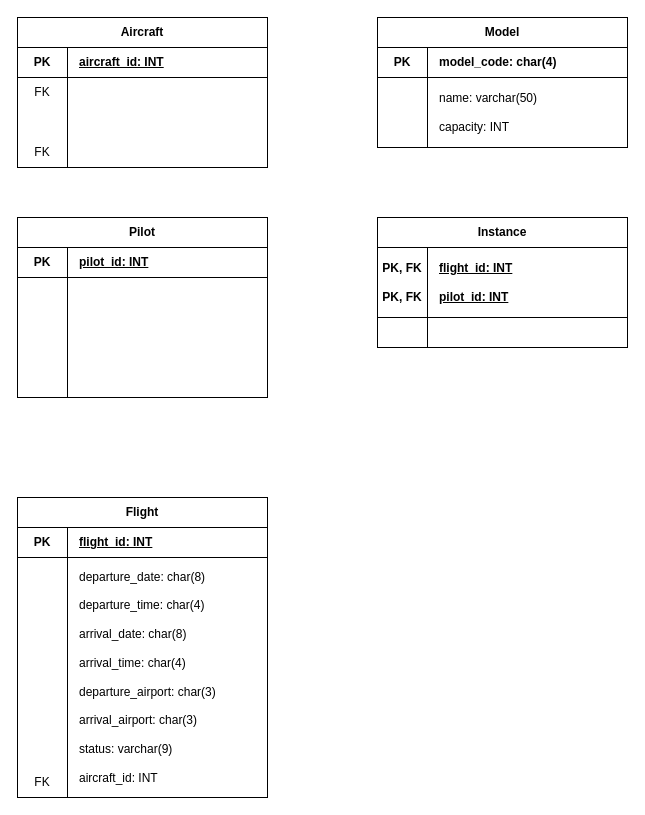
Some shapes in this 645 by 815 pixel diagram are drawn without their labels. The shapes that lost their labels are listed below. From the top down, each one's box as (x1, y1, x2, y2) in pixels, then its label:
(66, 76, 268, 168): model_code: char(4) status: varchar(9) flight_id: INT
(66, 276, 268, 398): first_name: varchar(30) last_name: varchar(30) dob: char(8) title: varchar(30)
